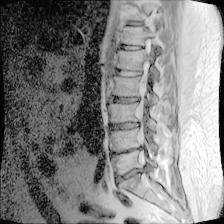disc: (108, 59, 146, 83), (114, 164, 149, 185), (114, 36, 148, 55), (117, 16, 153, 32)
hdisc: (105, 86, 144, 112), (107, 116, 143, 139), (109, 145, 146, 160)
